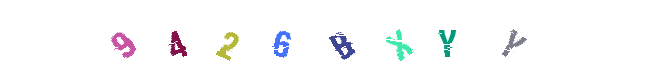2: (188, 0, 268, 80)
4: (137, 0, 217, 80)
6: (241, 0, 321, 80)
9: (115, 0, 195, 80)
B: (285, 0, 365, 80)
X: (364, 0, 444, 80)
Y: (365, 0, 445, 80), (407, 0, 487, 80)
